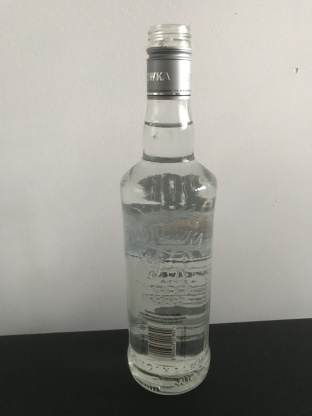nakretka: (144, 21, 193, 100)
